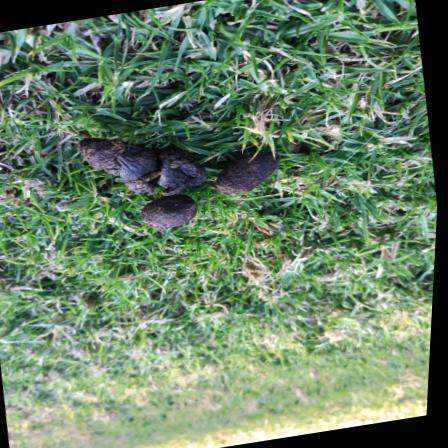dog-poop: (54, 100, 306, 254)
